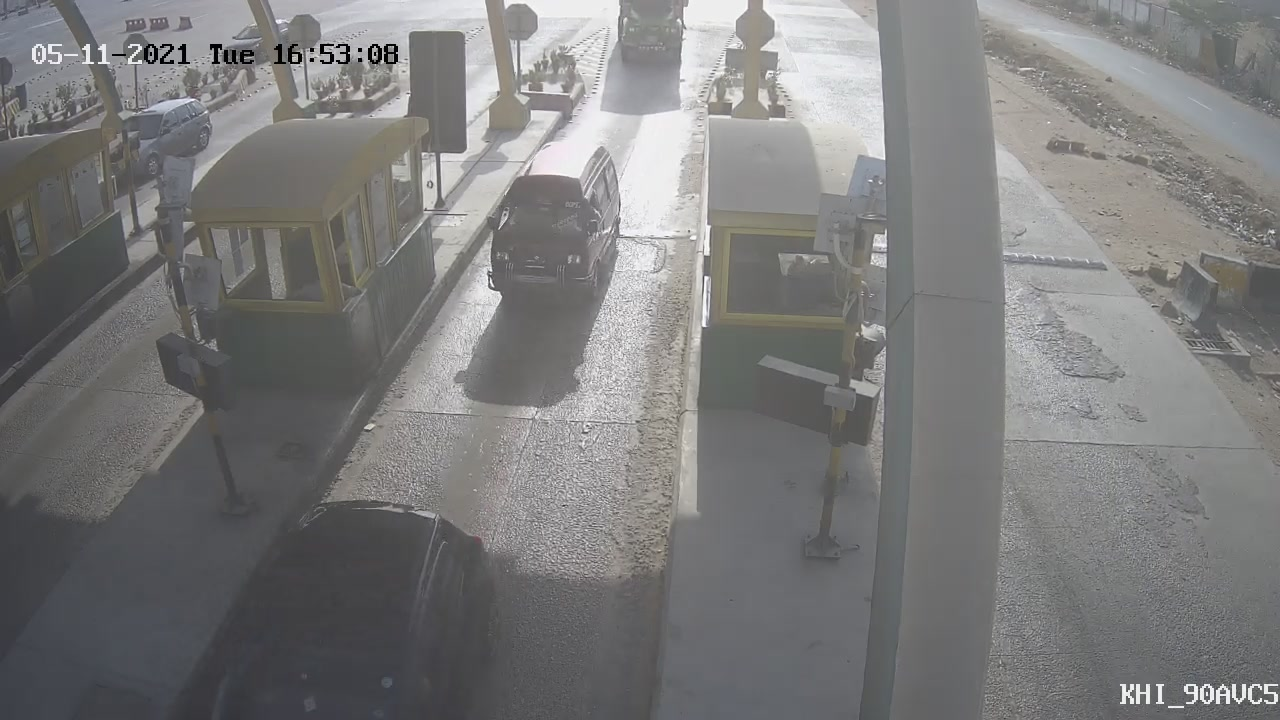F1: (469, 129, 640, 330)
